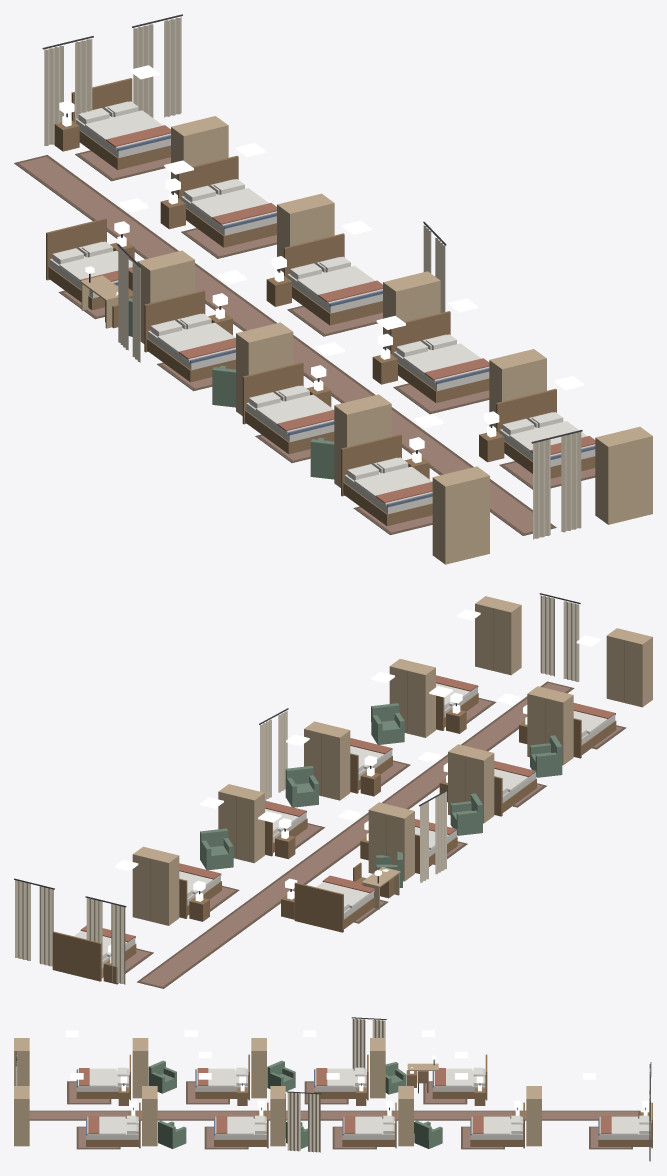
File: fine-s2.glb
3 views of the same model, one above another, from view 1: azimuth 30°, elevation 25°; view 2: azimuth 150°, elevation 25°; view 3: azimuth 270°, elevation 25° (orthographic). The views are drawn at different scales.
Parts seen in each view (by area): view 1: soft-s2, dresser.012, dresser.017, bed-frame.015, bed-frame.012, bed-frame.016, bed-frame.014, bed-frame.011, bed-frame.010, bed-frame.013, dresser.011, dresser.010 (+10 smaller); view 2: soft-s2, dresser.013, dresser.012, dresser.017, dresser.015, dresser.014, dresser.016, dresser.009, dresser.010, dresser.011, bed-frame.009, bed-frame.013 (+12 smaller); view 3: soft-s2, dresser.009, dresser.010, dresser.013, dresser.014, dresser.015, dresser.016, dresser.017, dresser.011, bed-frame.017, bed-frame.014, bed-frame.015 (+13 smaller).
Boxes of the visible parts, box(x1,y1,x2,y2) form: soft-s2: box(14, 14, 595, 539); dresser.012: box(432, 466, 489, 564); dresser.017: box(595, 426, 652, 524); bed-frame.015: box(283, 233, 382, 325); bed-frame.012: box(341, 434, 432, 526); bed-frame.016: box(390, 311, 489, 402); bed-frame.014: box(177, 156, 276, 247); bed-frame.011: box(242, 362, 334, 454); bed-frame.010: box(144, 290, 235, 382); bed-frame.013: box(71, 78, 170, 169); dresser.011: box(334, 394, 391, 487); dresser.010: box(236, 322, 293, 415); soft-s2: box(14, 593, 626, 988); dresser.013: box(132, 846, 179, 925); dresser.012: box(606, 628, 652, 707); dresser.017: box(475, 596, 521, 675); dresser.015: box(304, 721, 350, 800); dresser.014: box(218, 784, 264, 863); dresser.016: box(389, 659, 435, 737); dresser.009: box(368, 802, 414, 881); dresser.010: box(448, 744, 494, 823); dresser.011: box(527, 686, 573, 765); bed-frame.009: box(294, 882, 374, 932); bed-frame.013: box(52, 931, 136, 981); soft-s2: box(15, 1017, 651, 1161); dresser.009: box(370, 1038, 385, 1098); dresser.010: box(251, 1038, 266, 1098); dresser.013: box(526, 1086, 541, 1146); dresser.014: box(398, 1086, 413, 1146); dresser.015: box(270, 1086, 285, 1146); dresser.016: box(142, 1086, 157, 1146); dresser.017: box(14, 1086, 29, 1146); dresser.011: box(132, 1038, 148, 1098); bed-frame.017: box(86, 1102, 140, 1148); bed-frame.014: box(470, 1102, 524, 1148); bed-frame.015: box(342, 1102, 396, 1148).
Bounding box in the file's own units: 7.79 × 2.61 × 24.6.
